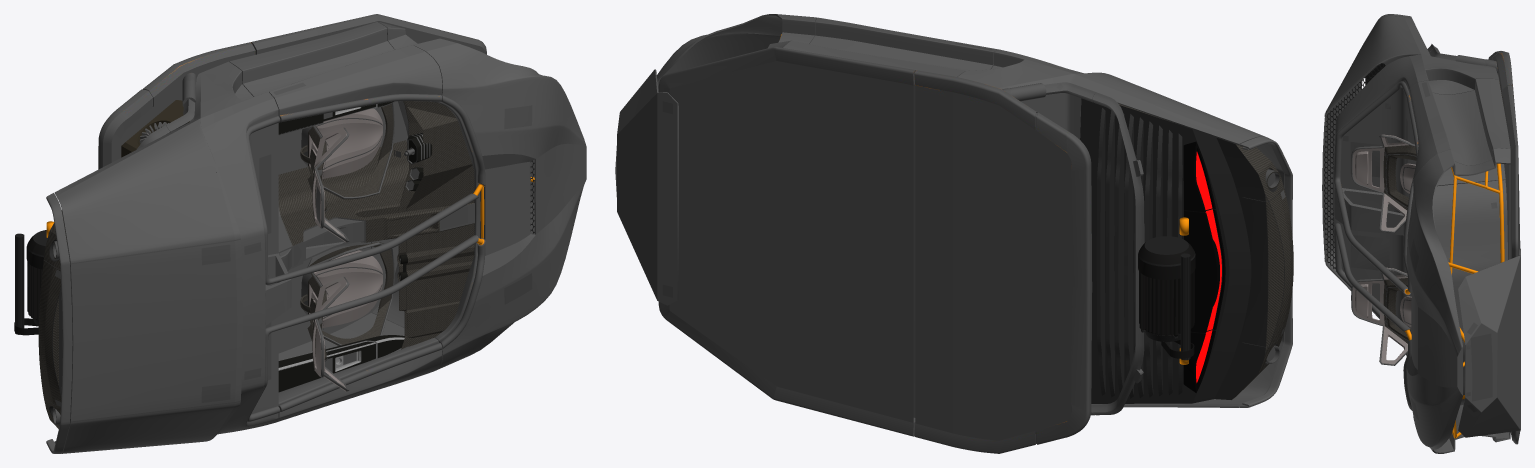
Rendered from chassis.gltf.
3 renders of one model, left to right at view 1: azimuth 30°, elevation 25°; view 2: azimuth 150°, elevation 25°; view 3: azimuth 270°, elevation 25°, orthographic. The views are drawn at different scales.
Parts seen in each view (by area): view 1: chassis; view 2: chassis; view 3: chassis.
Part boxes in pixels (bbox=[...]): chassis: bbox=[14, 14, 586, 453]; chassis: bbox=[615, 14, 1293, 453]; chassis: bbox=[1322, 14, 1520, 453].
Size of the model in its own units: 3.59 by 2.04 by 1.18.
Materials: 18 (8 with a texture image).
